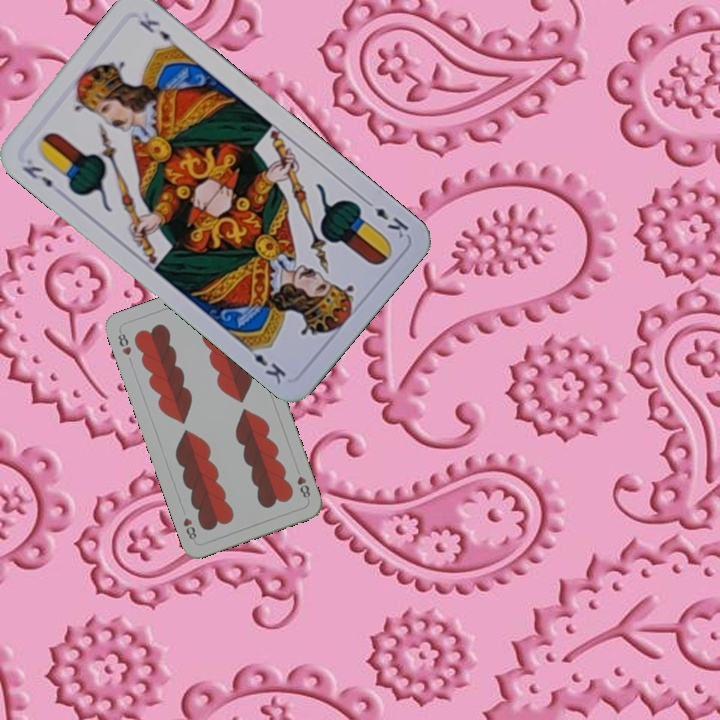EK: (360, 194, 411, 241), (18, 161, 56, 191)
H8: (292, 464, 313, 500), (114, 327, 134, 358)
